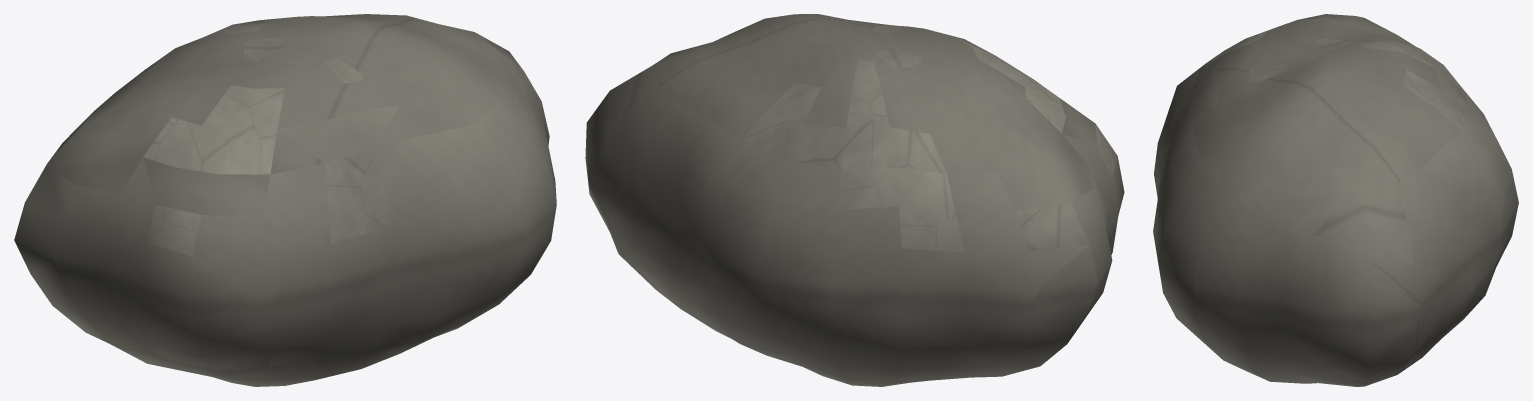
The model's file is Furn_Rock_Rim_A.fbx.
The picture shows the model from 3 angles, left to right: view 1: azimuth 30°, elevation 25°; view 2: azimuth 150°, elevation 25°; view 3: azimuth 270°, elevation 25°; orthographic projection. The views are drawn at different scales.
Visible parts, largest first — view 1: Furn_Rock_Rim_A; view 2: Furn_Rock_Rim_A; view 3: Furn_Rock_Rim_A.
Boxes of the visible parts, <box> form: Furn_Rock_Rim_A: <box>14,14,556,386</box>; Furn_Rock_Rim_A: <box>585,14,1124,386</box>; Furn_Rock_Rim_A: <box>1153,14,1518,386</box>.
Size of the model in its own units: 3 by 1.8 by 2.
